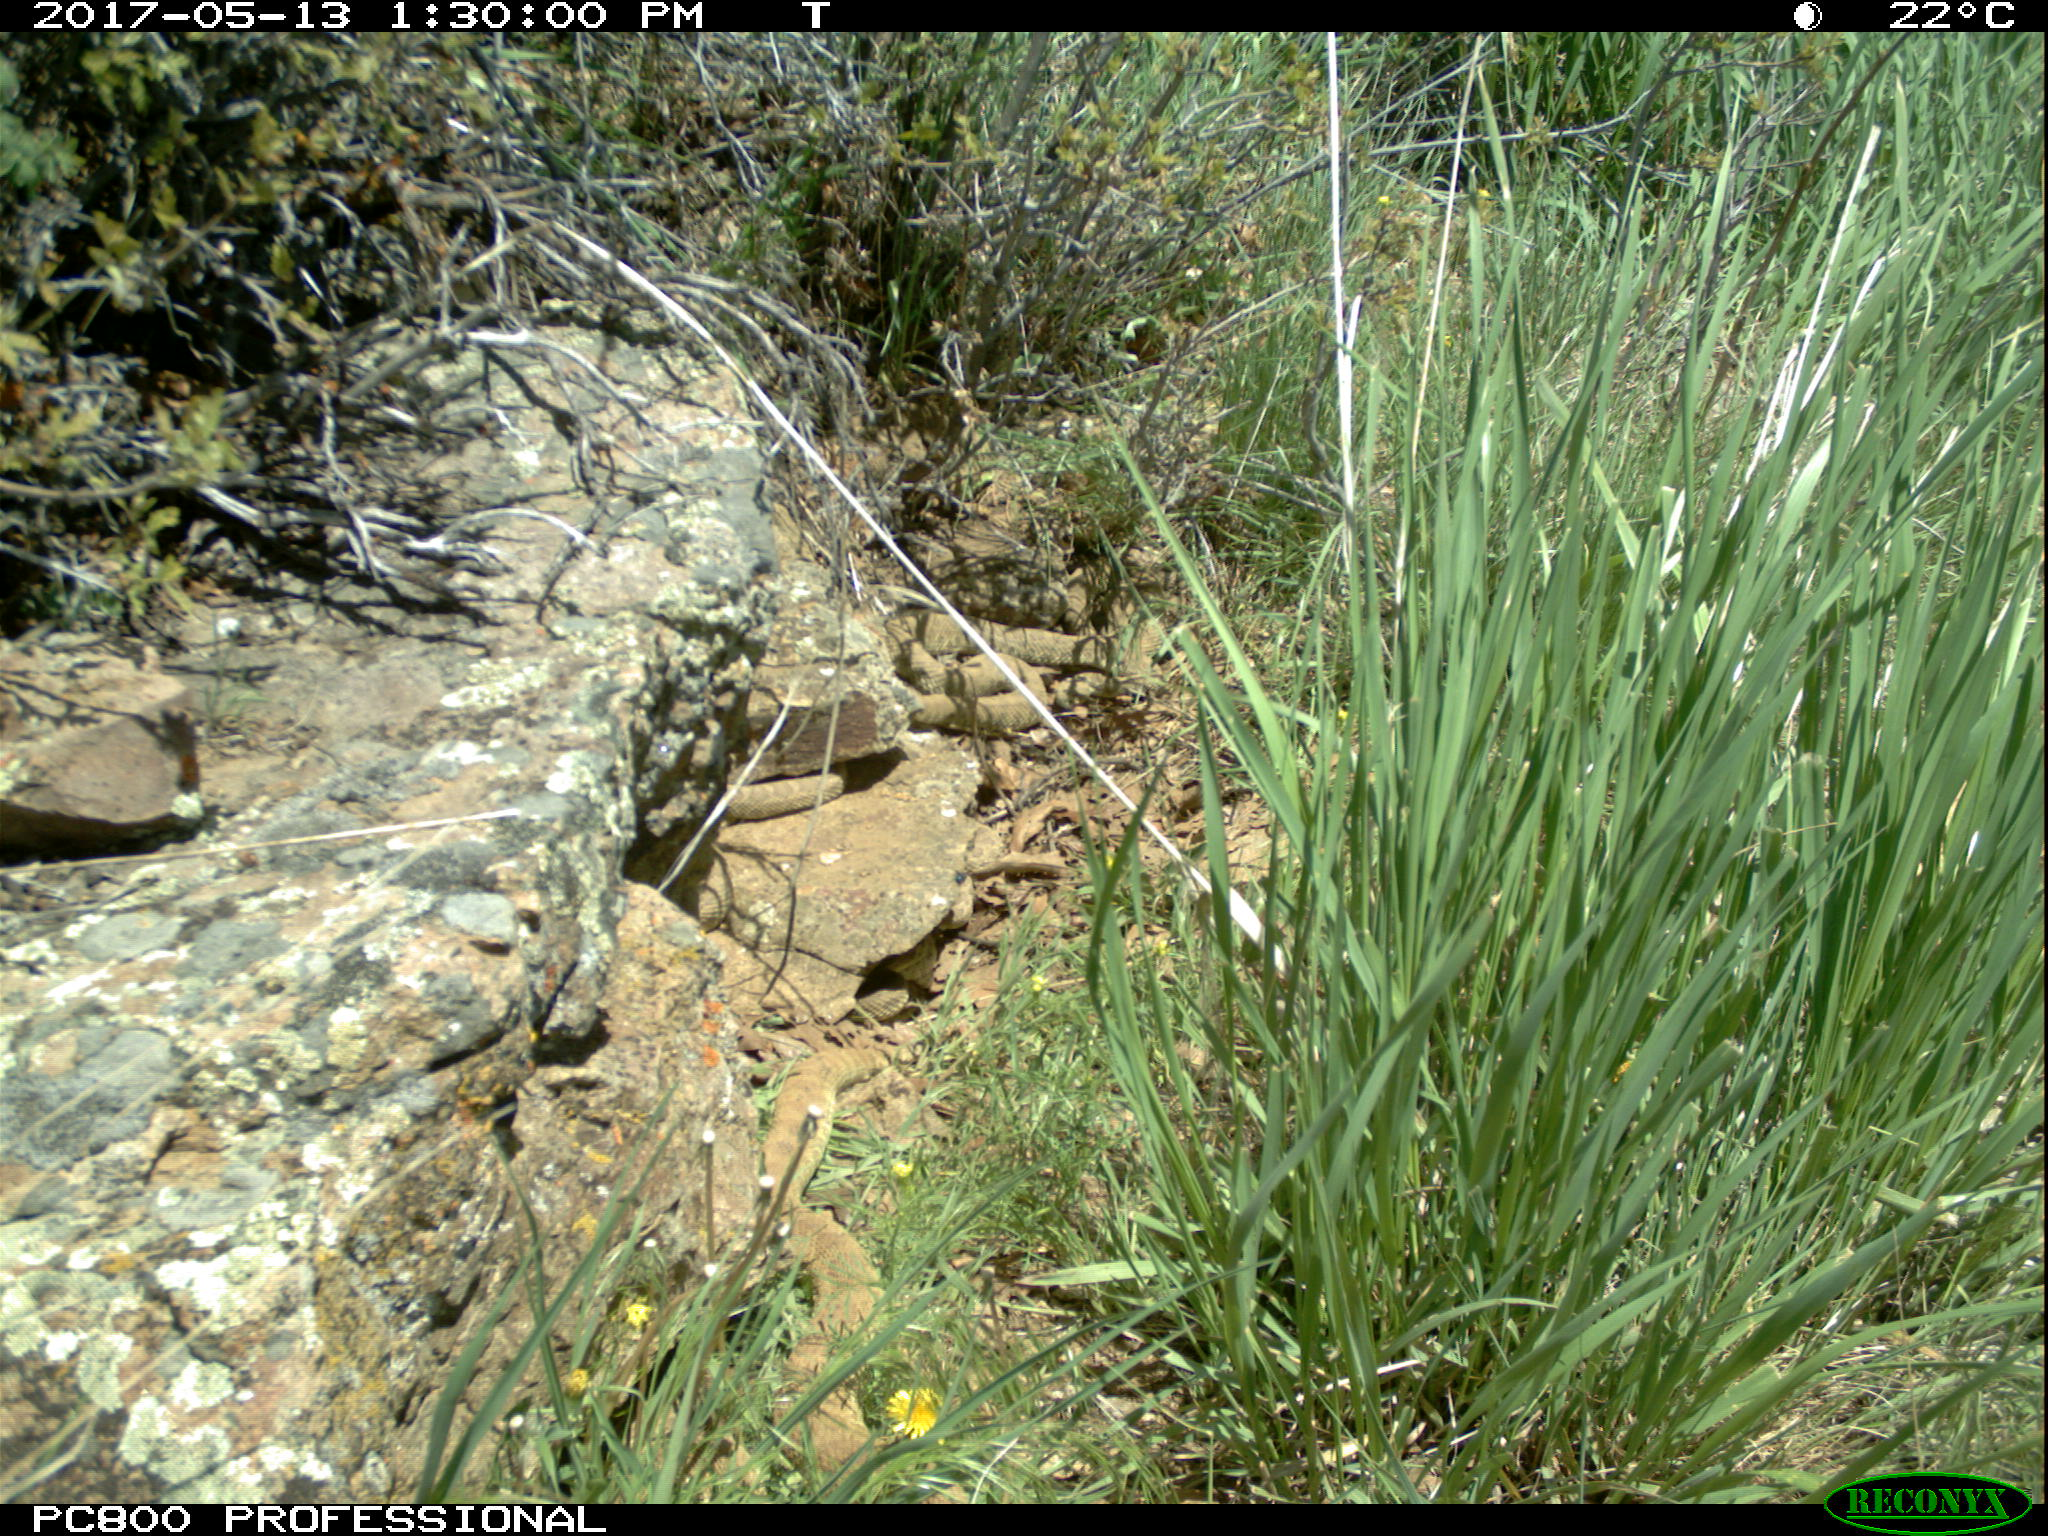snake: (755, 1046, 876, 1473), (880, 599, 1168, 731), (713, 765, 843, 799)
